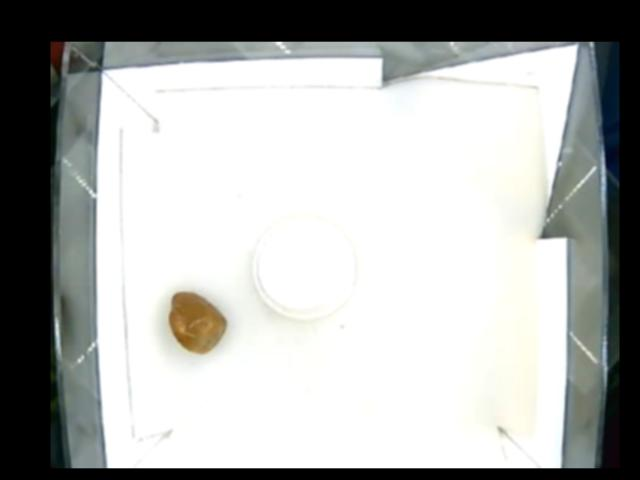Cup: (254, 217, 356, 319)
Pebble: (165, 290, 225, 357)
